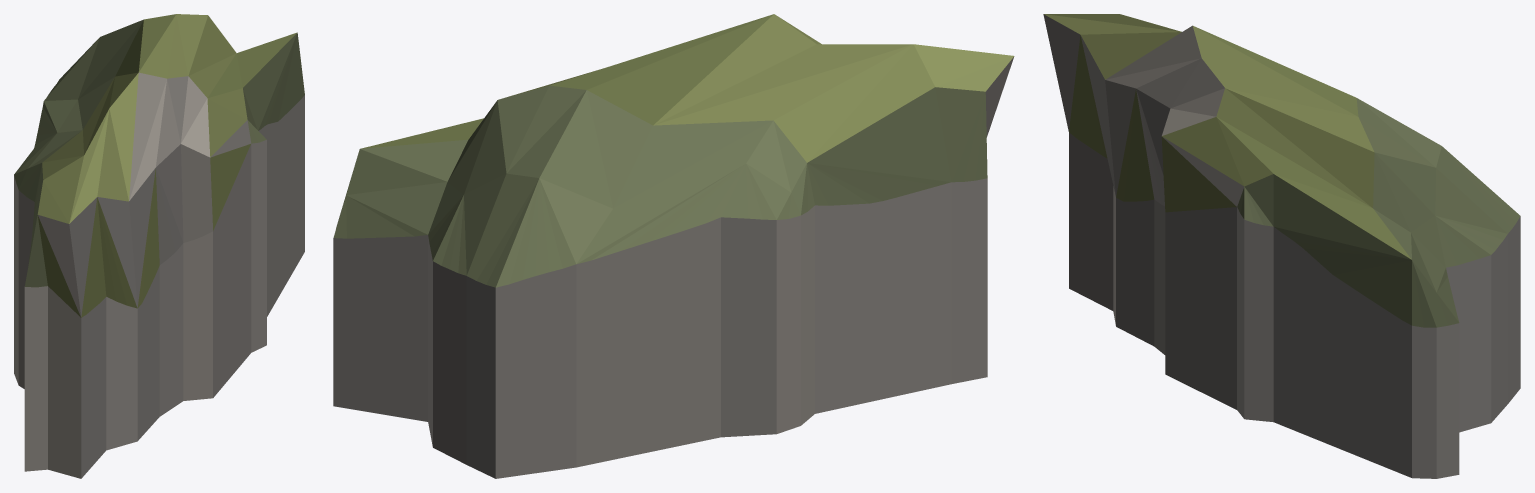
The model's file is cliff_crown.glb.
The picture shows the model from 3 angles, left to right: view 1: azimuth 30°, elevation 25°; view 2: azimuth 150°, elevation 25°; view 3: azimuth 270°, elevation 25°; orthographic projection. The views are drawn at different scales.
Visible parts, largest first — view 1: cliff_crown; view 2: cliff_crown; view 3: cliff_crown.
Part boxes in pixels (x1=…): cliff_crown: x1=14, y1=14, x2=304, y2=478; cliff_crown: x1=333, y1=14, x2=1014, y2=478; cliff_crown: x1=1043, y1=14, x2=1520, y2=478.
Bounding box in the file's own units: 134 × 97 × 131.
